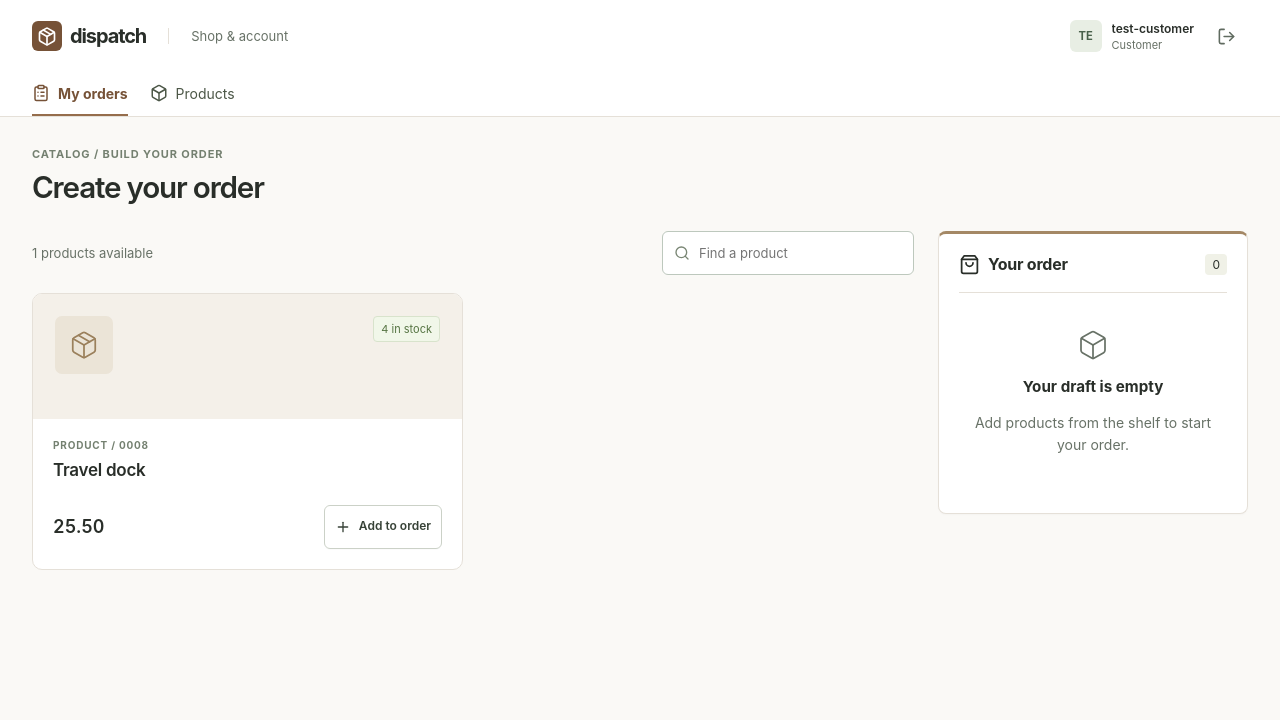
Test: retains the quantity field when its value is cleared
Click the button "Add to order" at (383, 527), box [324, 505, 442, 549]
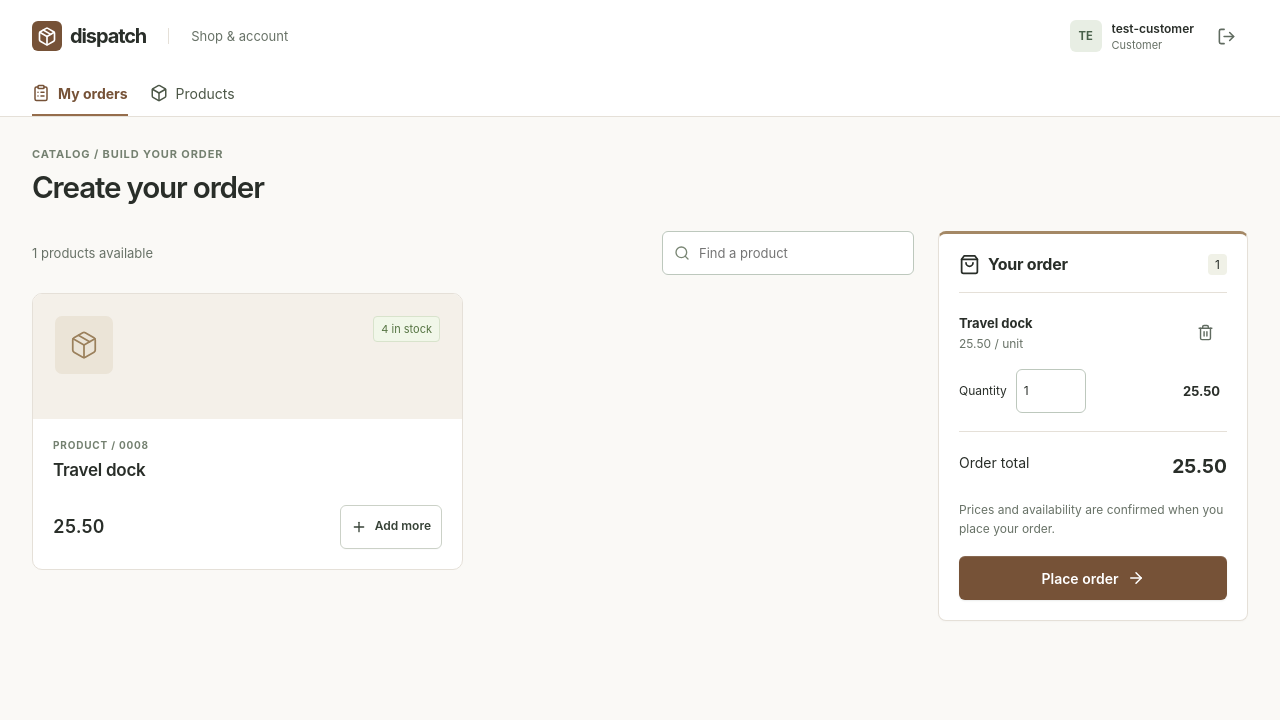
Clear the number field labelled "Quantity" at (1051, 391), box [1016, 369, 1086, 413]
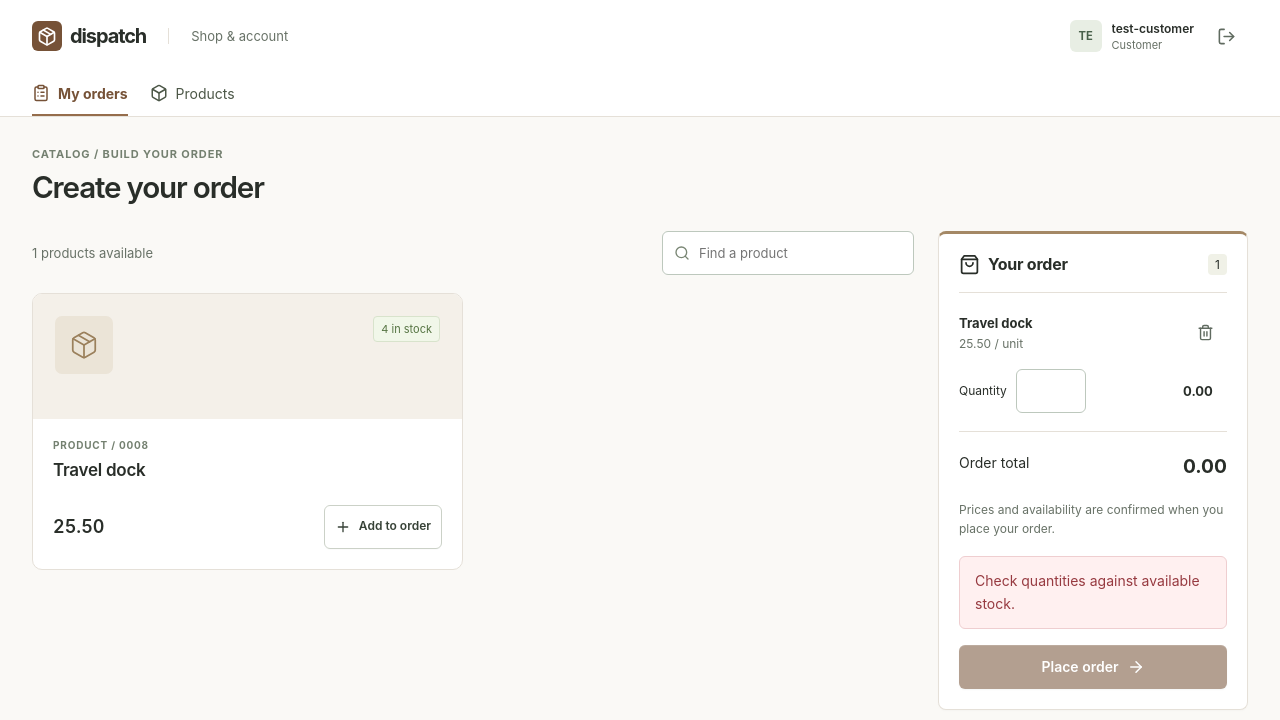
Result: the button "Place order" is disabled at [959, 645, 1227, 689]
